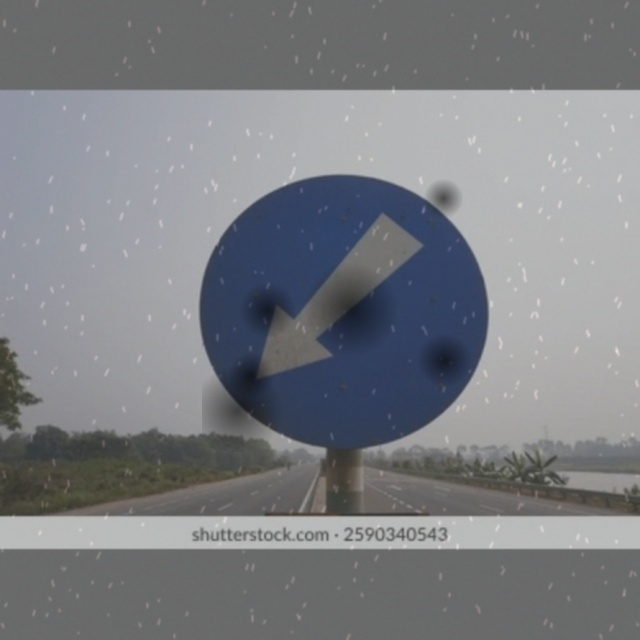Compulsory_Keep_Left: (202, 176, 487, 452)
